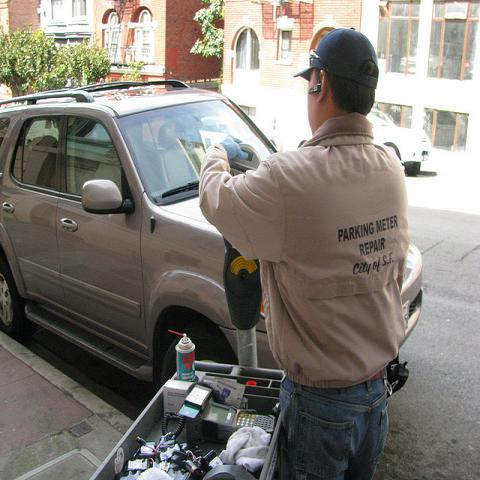car: (1, 80, 277, 401), (221, 74, 434, 176)
